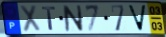7: (85, 3, 101, 33), (111, 5, 126, 33)
N: (62, 5, 85, 33)
T: (41, 6, 58, 32)
V: (126, 4, 148, 33)
X: (19, 4, 42, 33)
